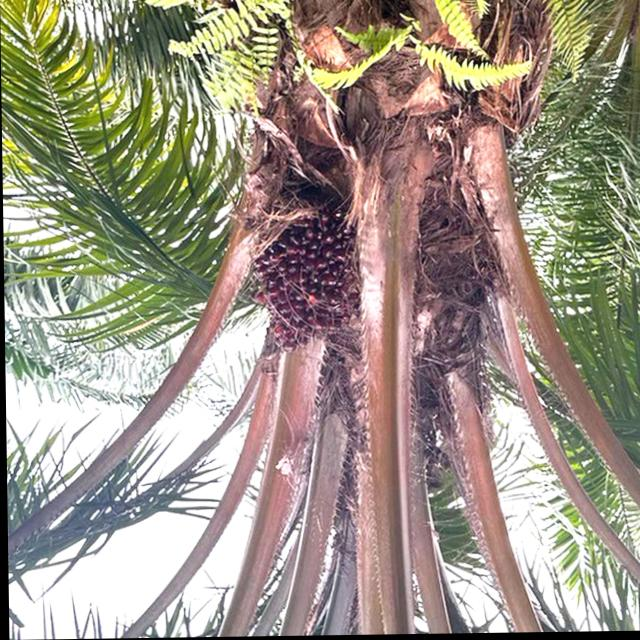ripe: (235, 206, 367, 374)
